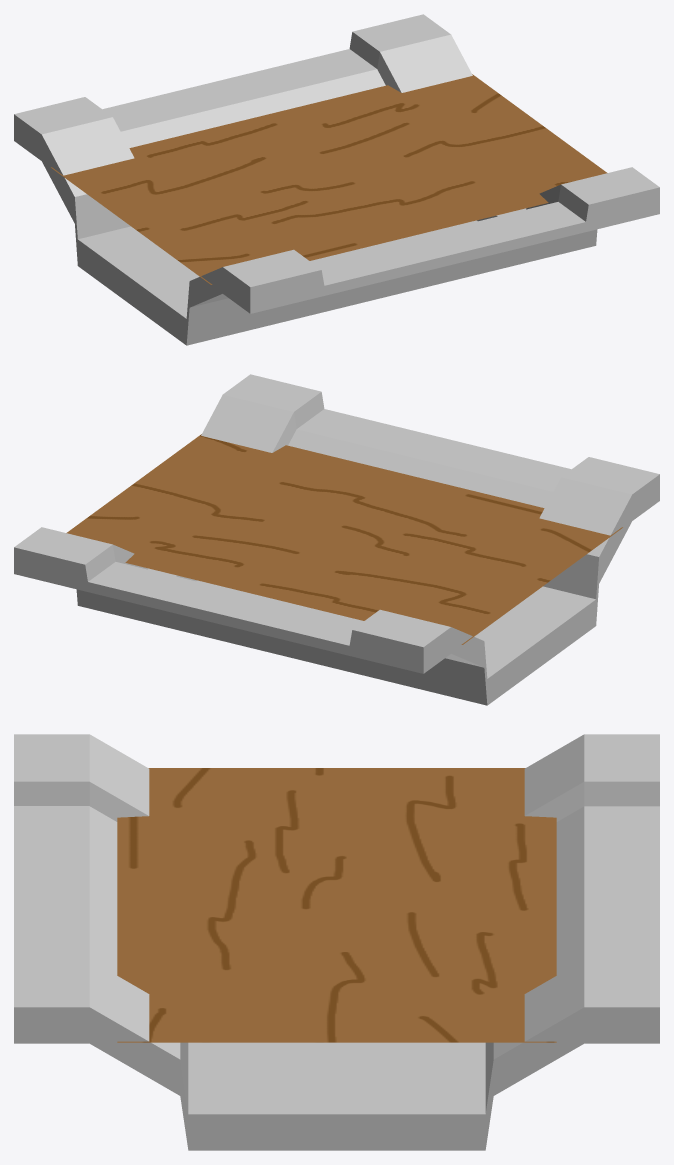
The model's file is jalanLurusRusak.fbx.
The picture shows the model from 3 angles, top to bottom: view 1: azimuth 30°, elevation 25°; view 2: azimuth 150°, elevation 25°; view 3: azimuth 270°, elevation 25°; orthographic projection. The views are drawn at different scales.
Parts seen in each view (by area): view 1: jalanLurus; view 2: jalanLurus; view 3: jalanLurus.
Boxes of the visible parts, bbox=[...] form: jalanLurus: bbox=[14, 14, 659, 345]; jalanLurus: bbox=[14, 374, 659, 705]; jalanLurus: bbox=[14, 734, 659, 1150].
Size of the model in its own units: 1826 by 445 by 1815.
